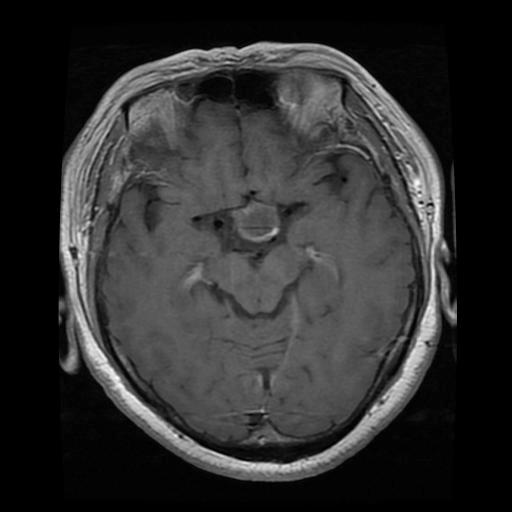Tumour-Pituitary: (212, 186, 296, 262)
